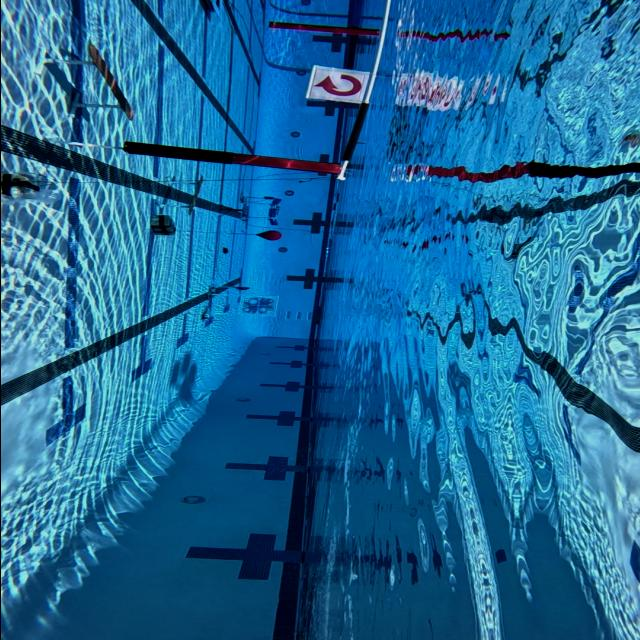red_side: (296, 64, 376, 107)
